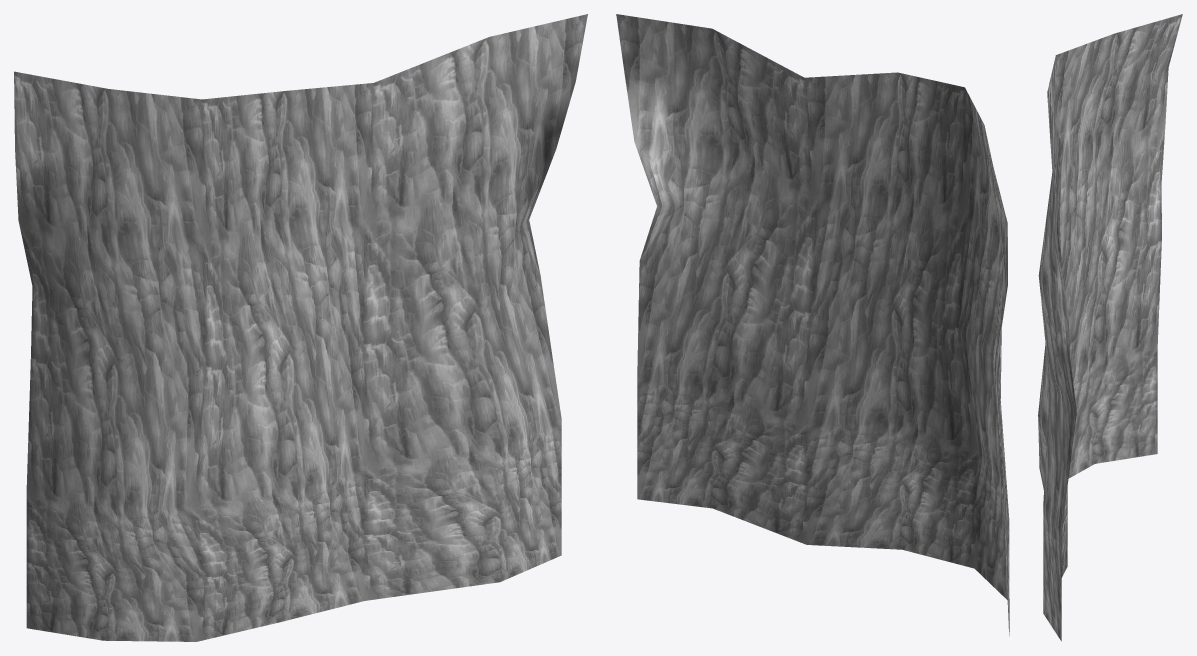
The model's file is SWORDLIGHT20_PS-AREA03_33.fbx.
3 renders of one model, left to right at view 1: azimuth 30°, elevation 25°; view 2: azimuth 150°, elevation 25°; view 3: azimuth 270°, elevation 25°, orthographic. The views are drawn at different scales.
Visible parts, largest first — view 1: SWORDLIGHT20_PS-AREA03_33; view 2: SWORDLIGHT20_PS-AREA03_33; view 3: SWORDLIGHT20_PS-AREA03_33.
Boxes of the visible parts, <box> form: SWORDLIGHT20_PS-AREA03_33: <box>14,14,587,641</box>; SWORDLIGHT20_PS-AREA03_33: <box>616,14,1009,635</box>; SWORDLIGHT20_PS-AREA03_33: <box>1038,14,1182,641</box>.
Bounding box in the file's own units: 196861 × 204001 × 60267.
Materials: 1 (1 with a texture image).
